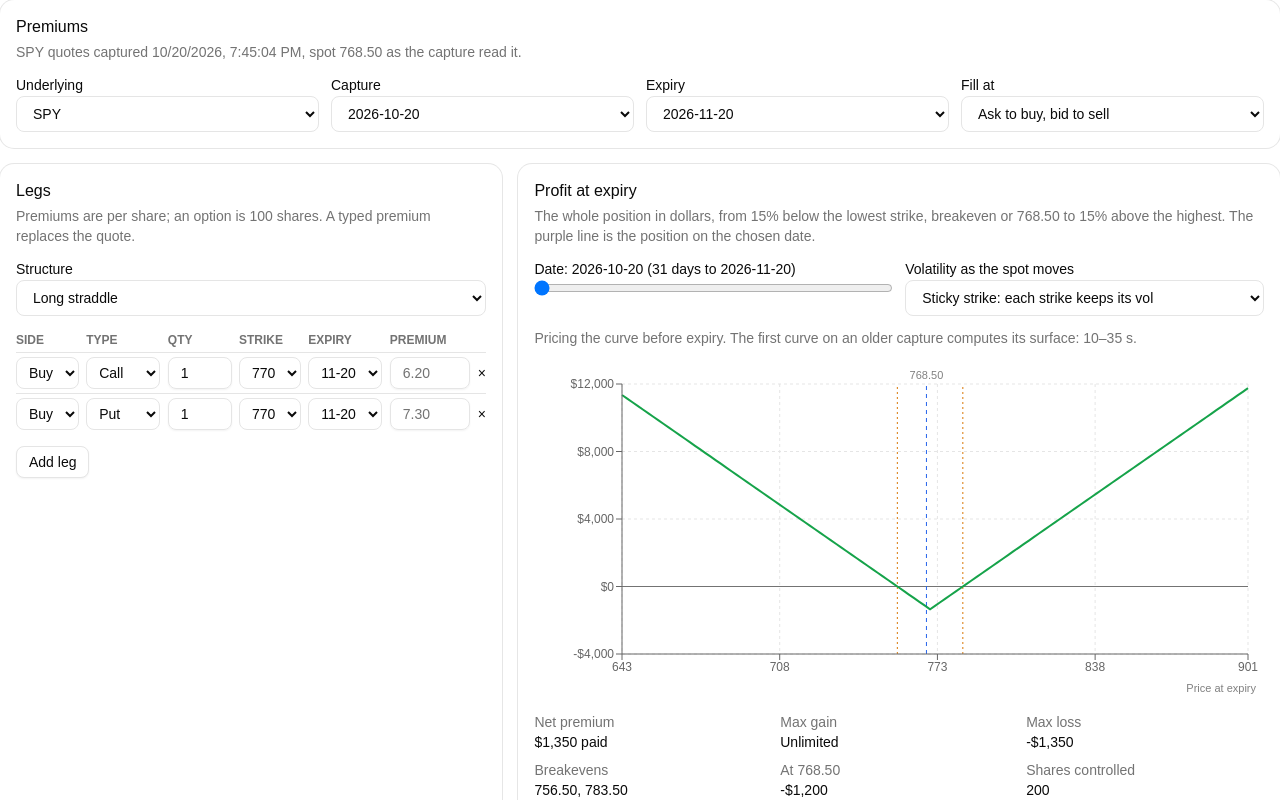
Test case: PayoffPage › asks for a premium the capture did not quote
This screenshot has width=1280, height=800.
Select "790" in the dropdown named "Leg 2 strike". click: (270, 414)
box: [239,398,301,430]
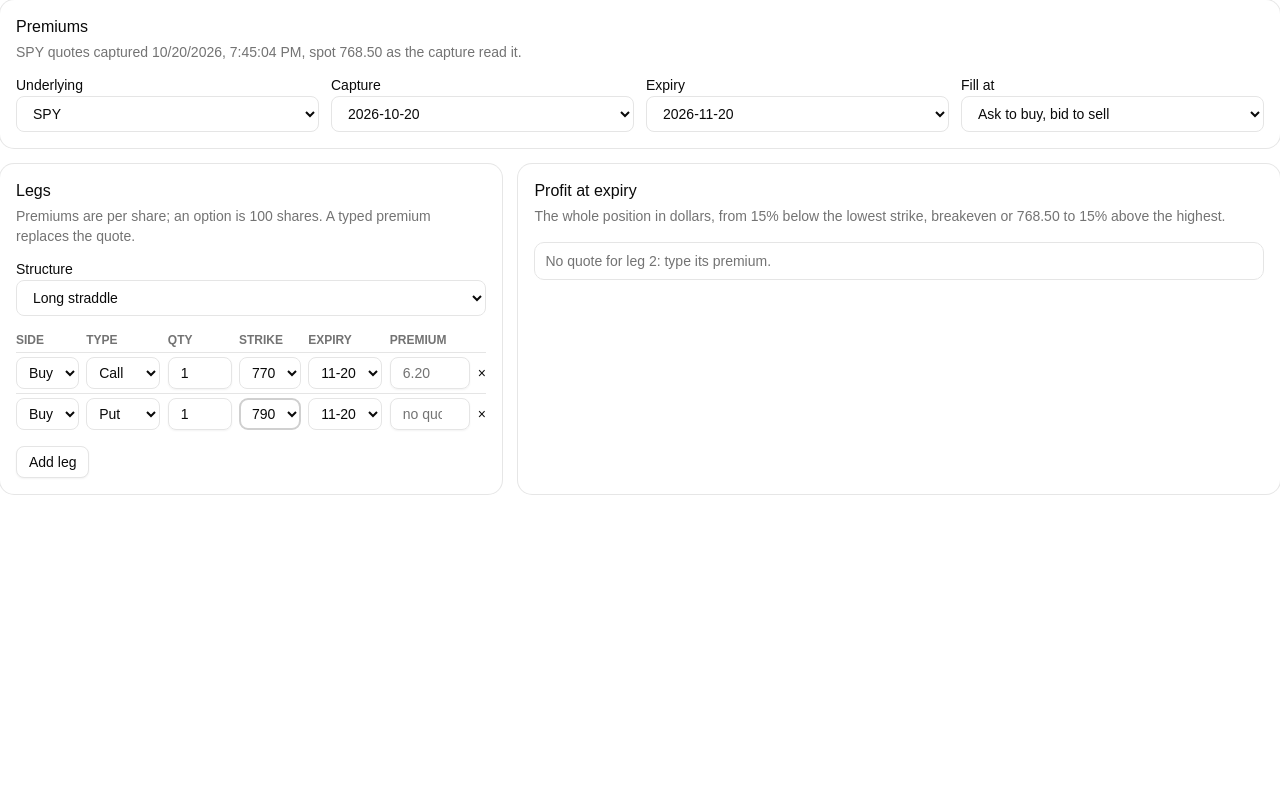
Now the text "No quote for leg 2: type its premium." is shown, box [545,253,771,269]
Now the element with test id "payoff-summary" is gone
Type "22" into the number field named "Leg 2 premium". click: (430, 414)
box: [390,398,470,430]
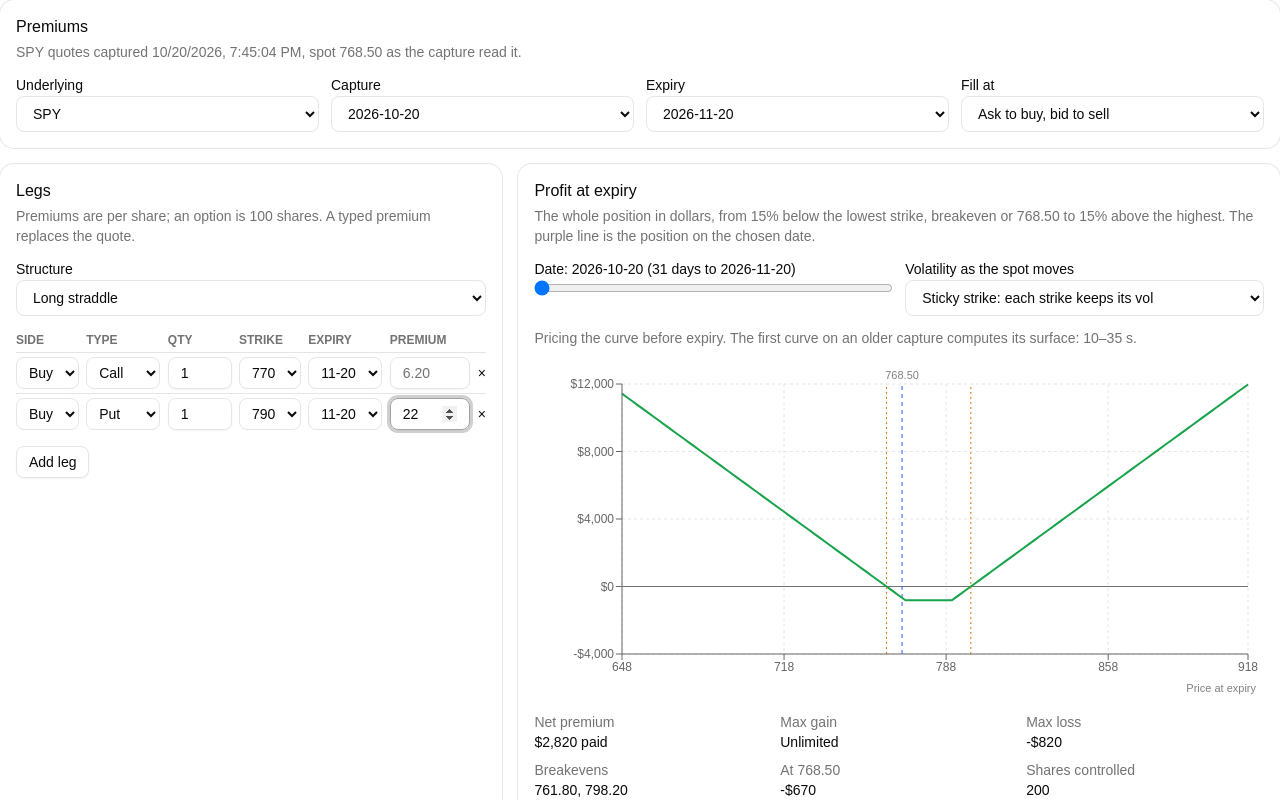
Now the text "$2,820 paid" is shown, box [534,734,608,750]
